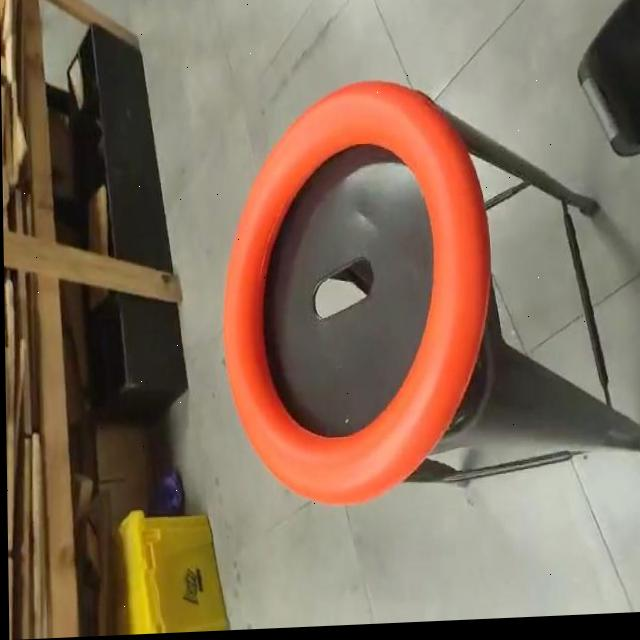note: (214, 76, 496, 514)
